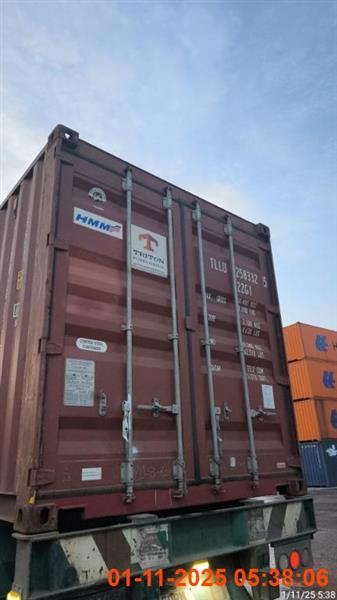dent: (1, 124, 319, 598)
